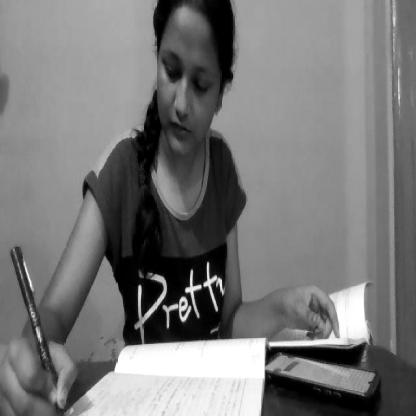Normal: (145, 0, 239, 170)
